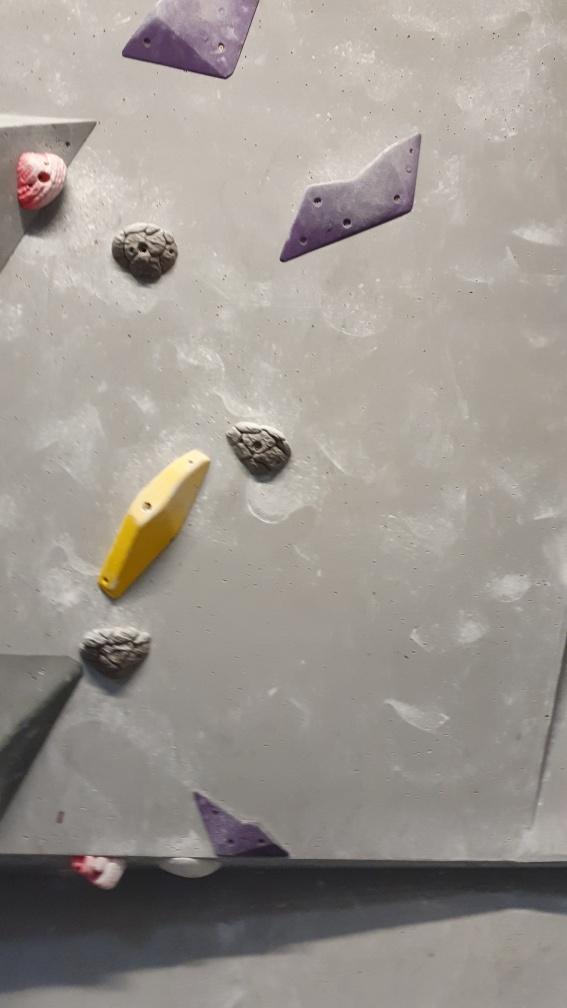Jug: (224, 421, 295, 488), (72, 622, 158, 676), (12, 148, 74, 220), (114, 220, 178, 288), (72, 850, 131, 898)
Pinch: (102, 448, 214, 599)
